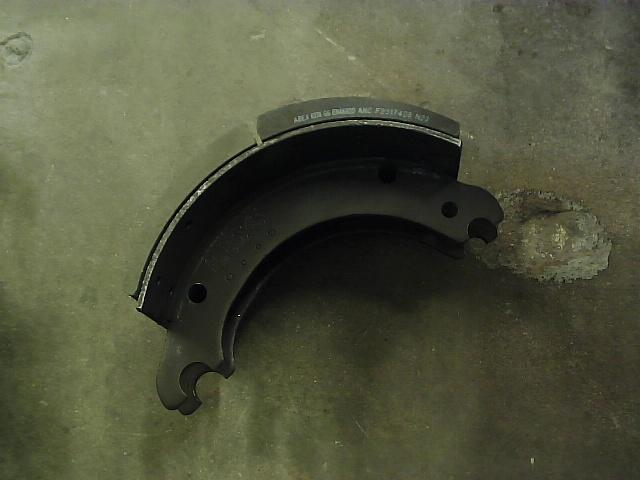brake-shoes: (121, 94, 502, 416)
